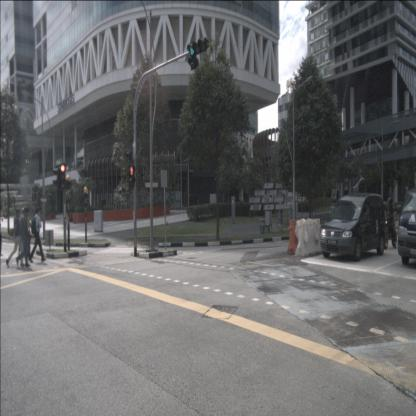barrier: (295, 218, 322, 256), (287, 219, 313, 255)
